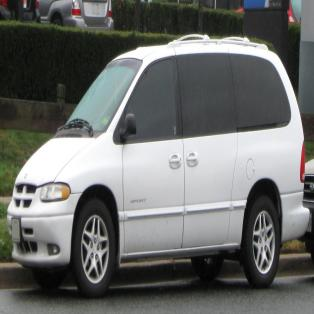Auto: (5, 33, 312, 288)
